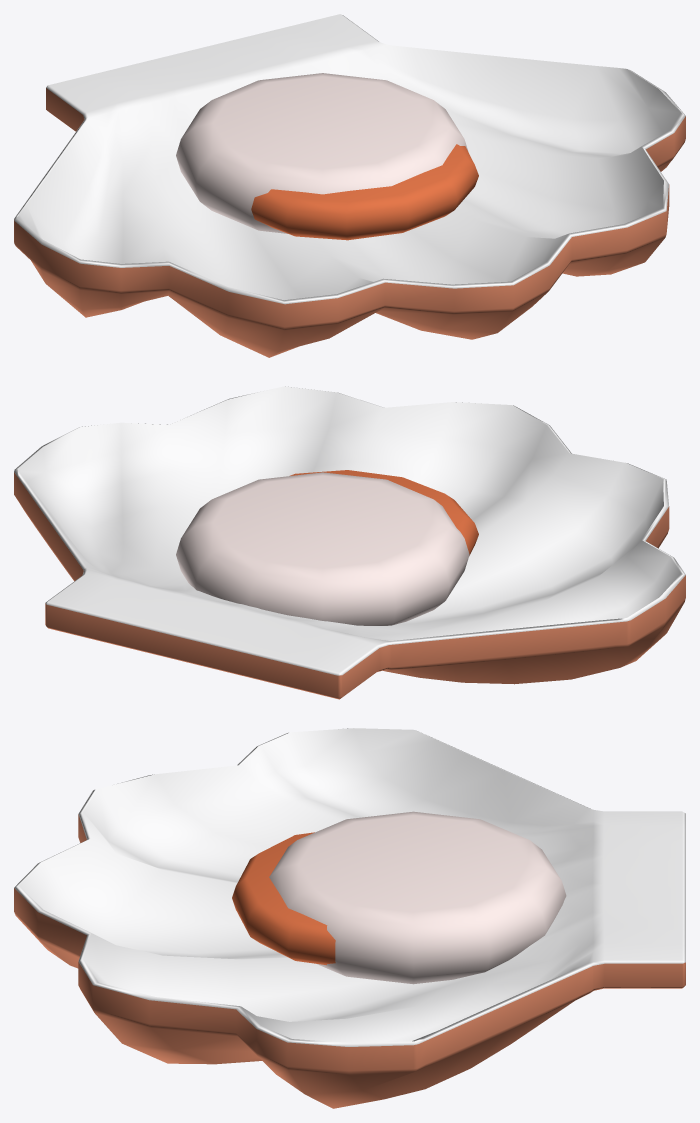
File: Scallops_Open_2.fbx
3 renders of one model, top to bottom at view 1: azimuth 30°, elevation 25°; view 2: azimuth 150°, elevation 25°; view 3: azimuth 270°, elevation 25°, orthographic. The views are drawn at different scales.
Parts seen in each view (by area): view 1: Scallops_Open_2; view 2: Scallops_Open_2; view 3: Scallops_Open_2.
Part boxes in pixels (x1=…): Scallops_Open_2: x1=14, y1=14, x2=685, y2=357; Scallops_Open_2: x1=14, y1=386, x2=685, y2=699; Scallops_Open_2: x1=14, y1=728, x2=685, y2=1108.
Size of the model in its own units: 8.08 by 1.42 by 7.2.
